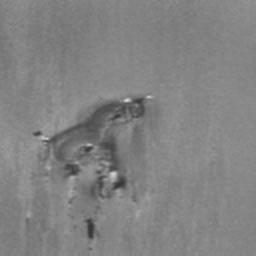Slag inclusion: (38, 96, 147, 204), (84, 218, 96, 241), (32, 131, 42, 138), (131, 192, 138, 201)
